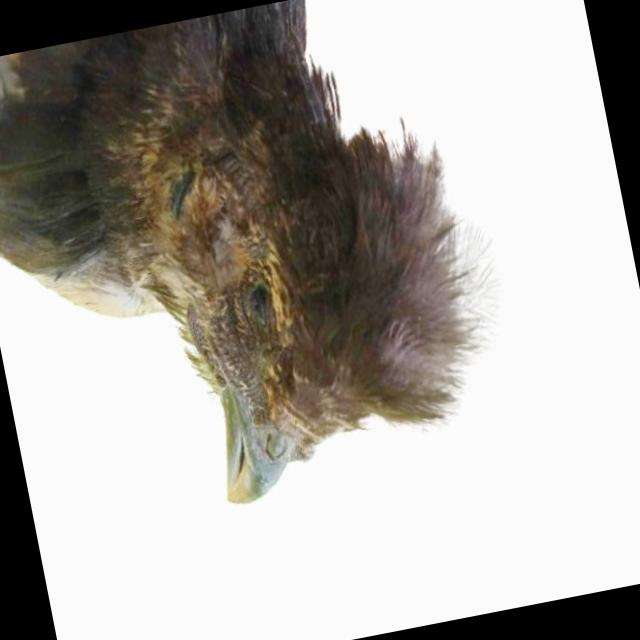Coryza: (200, 223, 326, 379)
